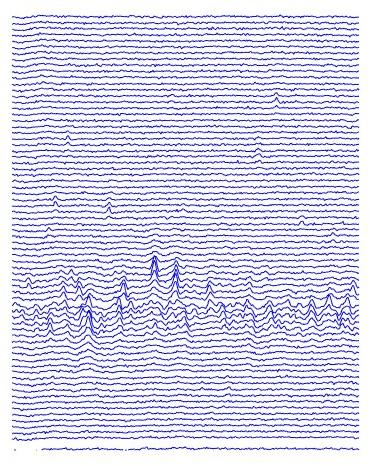defect: (265, 299, 356, 337), (208, 282, 255, 338), (168, 256, 191, 334), (70, 277, 92, 338), (111, 271, 130, 332), (246, 130, 264, 168), (147, 249, 158, 284), (268, 85, 284, 109), (101, 196, 116, 221), (297, 211, 309, 233), (51, 193, 61, 216), (44, 219, 49, 242)
